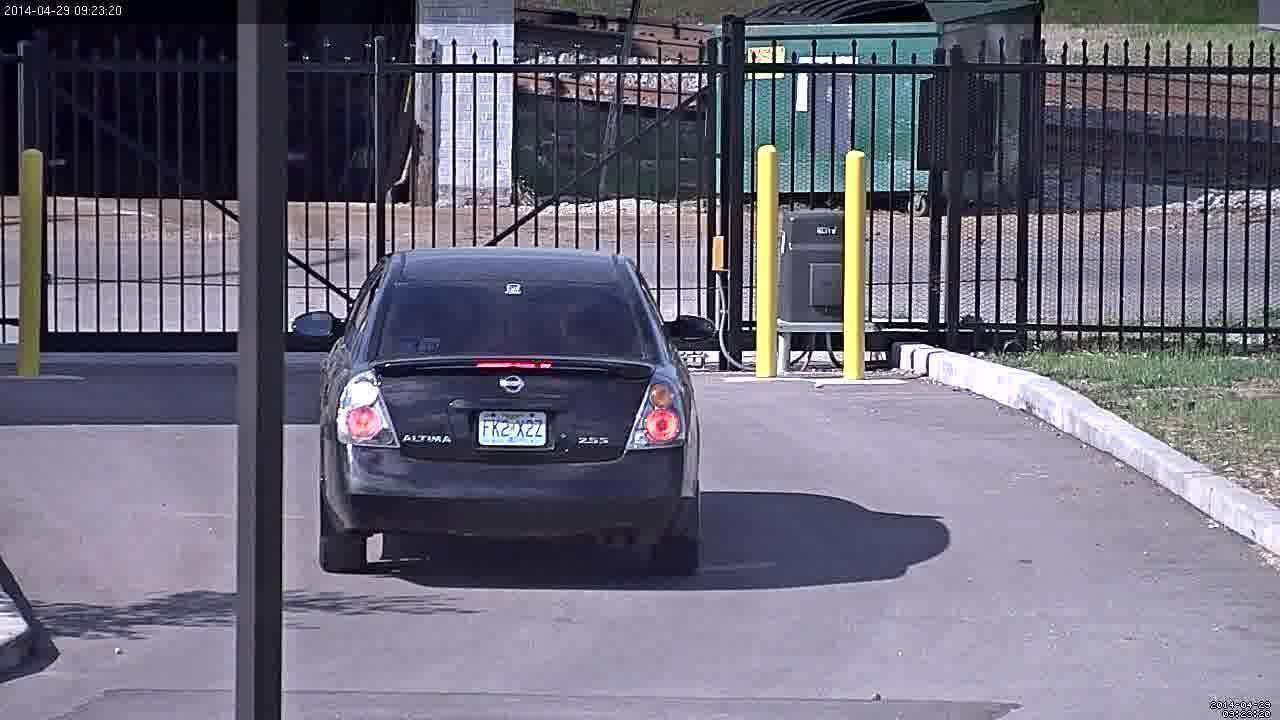placa de veiculo: (464, 395, 574, 466)
